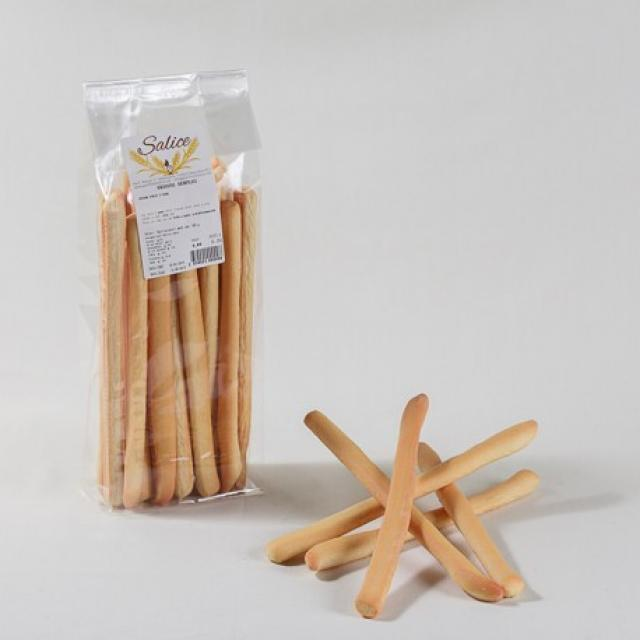Grissini: (267, 391, 547, 621)
